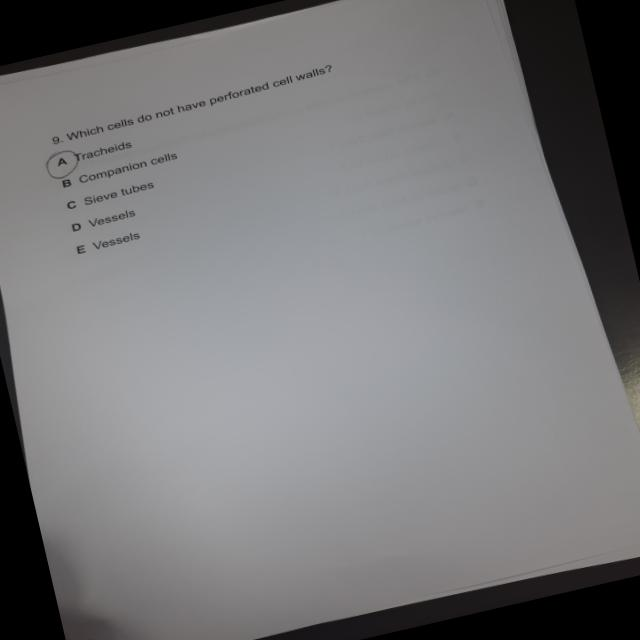A: (41, 147, 88, 184)
